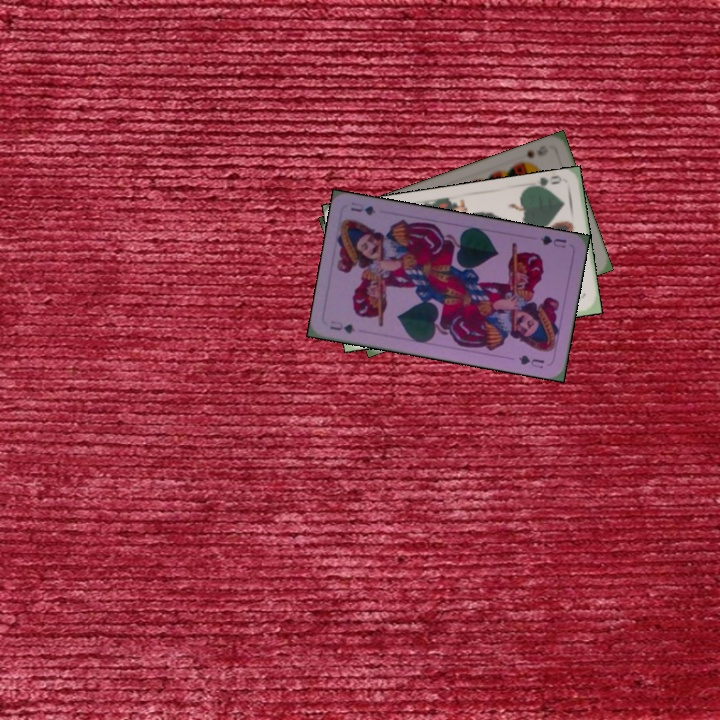GO: (525, 172, 564, 194)
GU: (536, 231, 569, 250), (326, 317, 357, 336)
S9: (515, 146, 537, 168)
